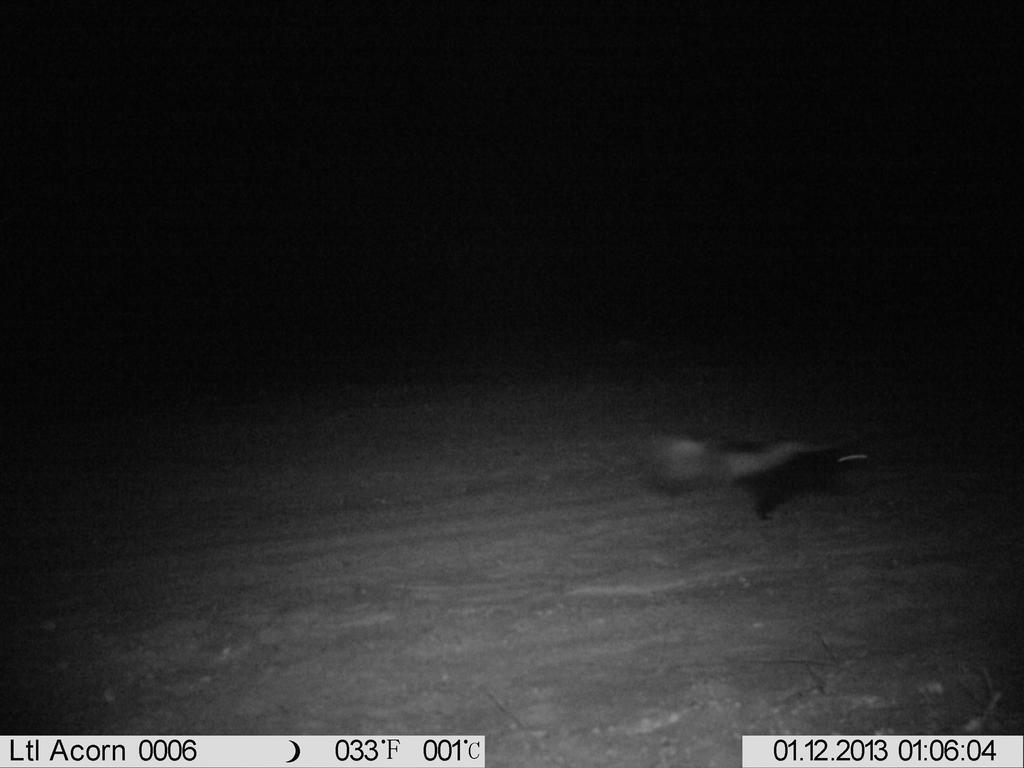skunk: (645, 406, 948, 535)
